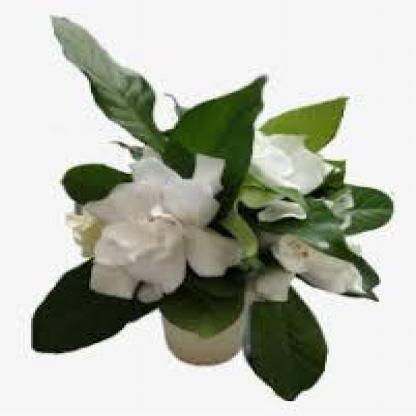Melati: (69, 149, 258, 319), (235, 76, 375, 198)
